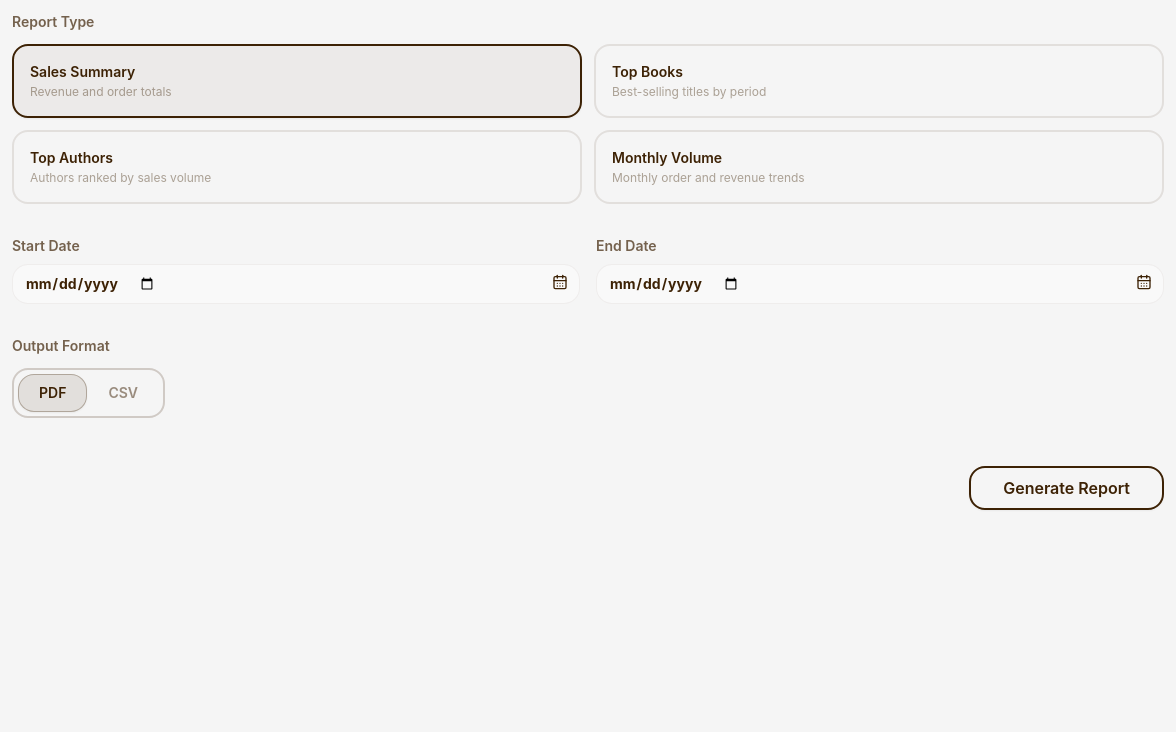
ReportForm › shows validation error when dates are empty on submit
The image size is (1176, 732).
Click the button "Generate Report" at (1067, 488), box [969,466,1164,510]
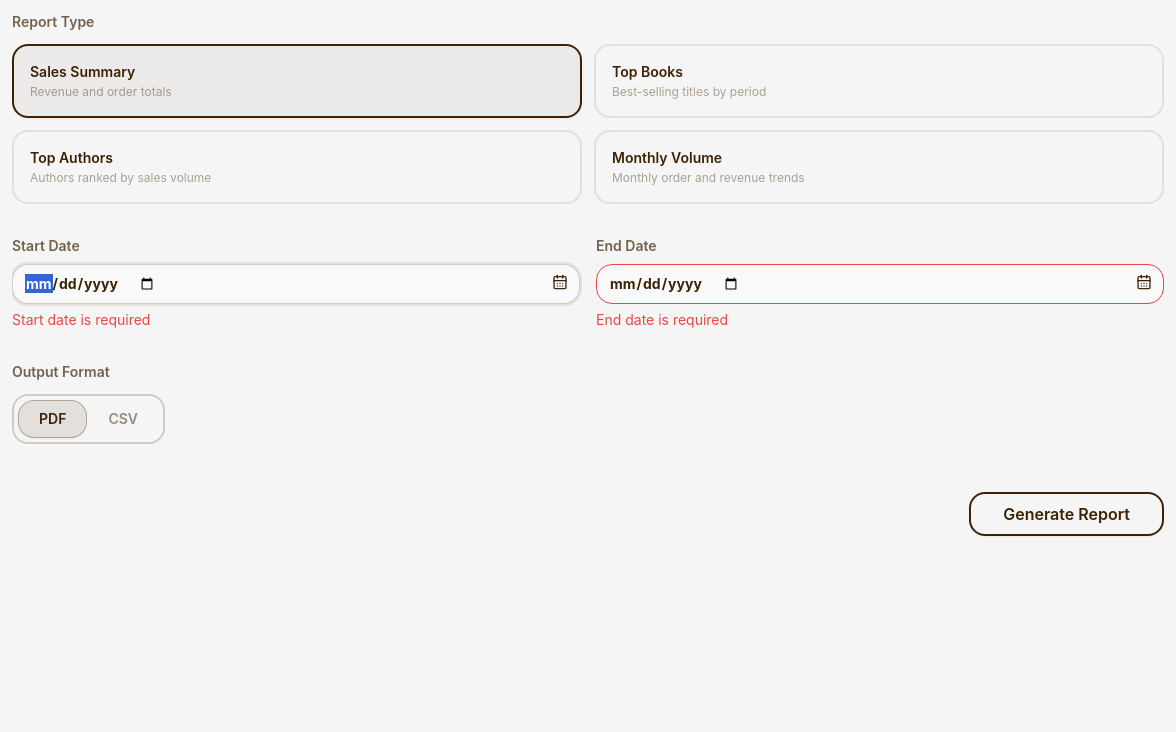
Now the text "Start date is required" is shown, box [12,311,150,328]
